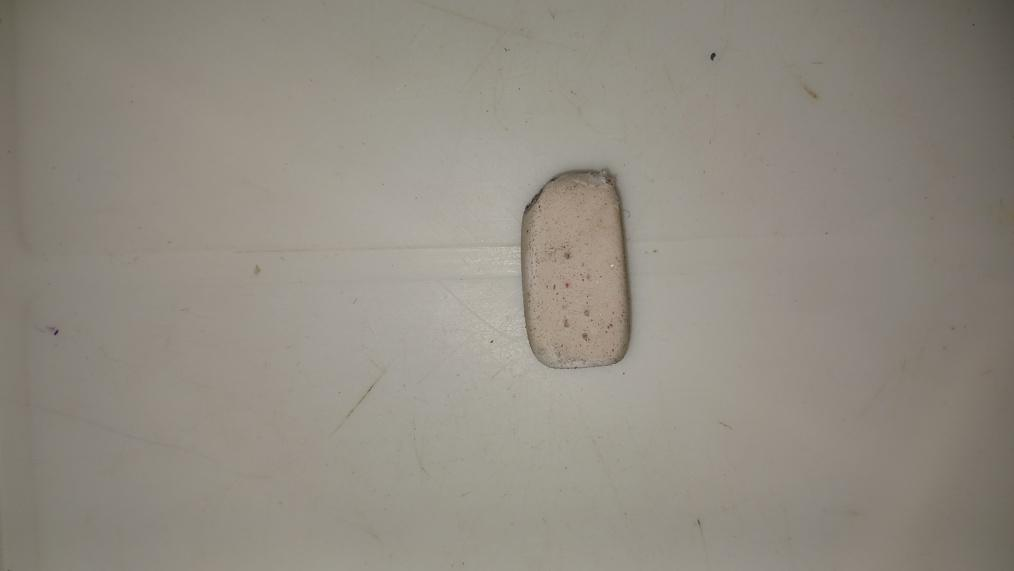Eraser: (522, 169, 627, 371)
